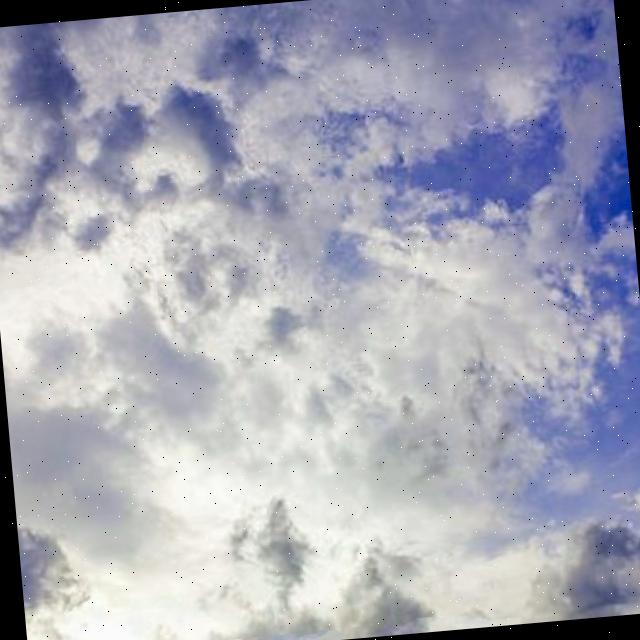Ns: (1, 1, 640, 577)
